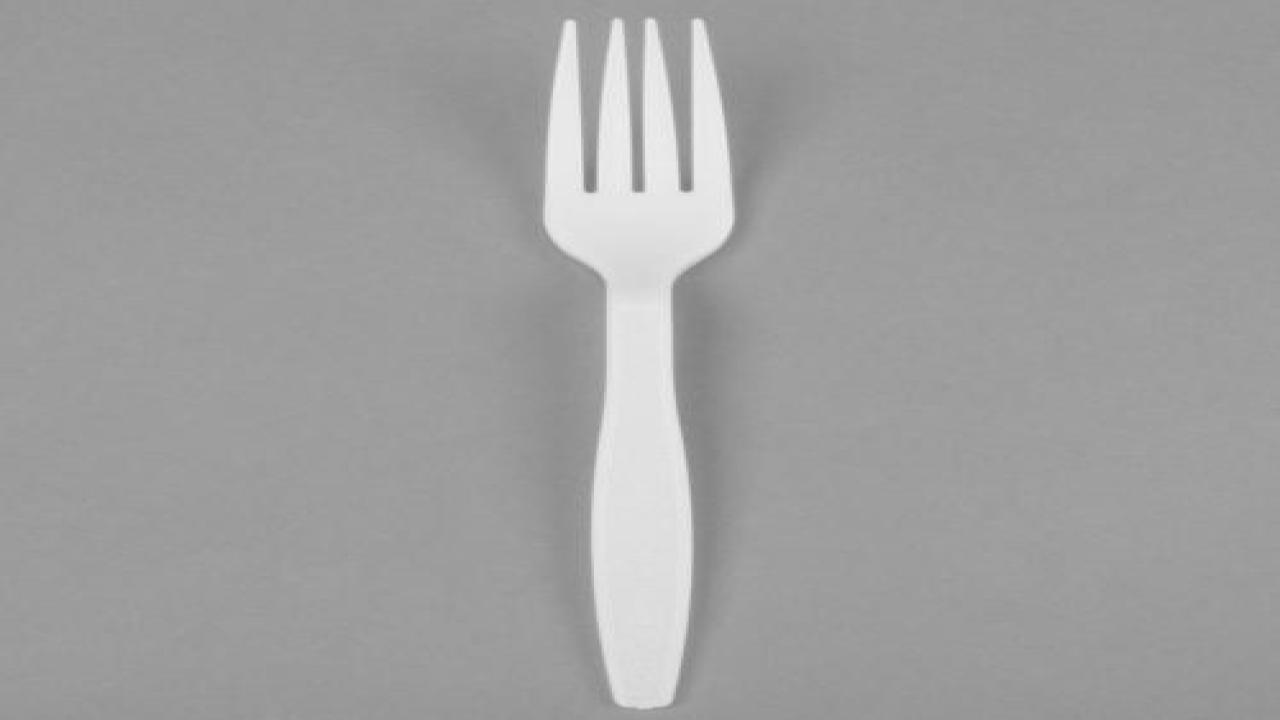fork: (540, 16, 737, 710)
